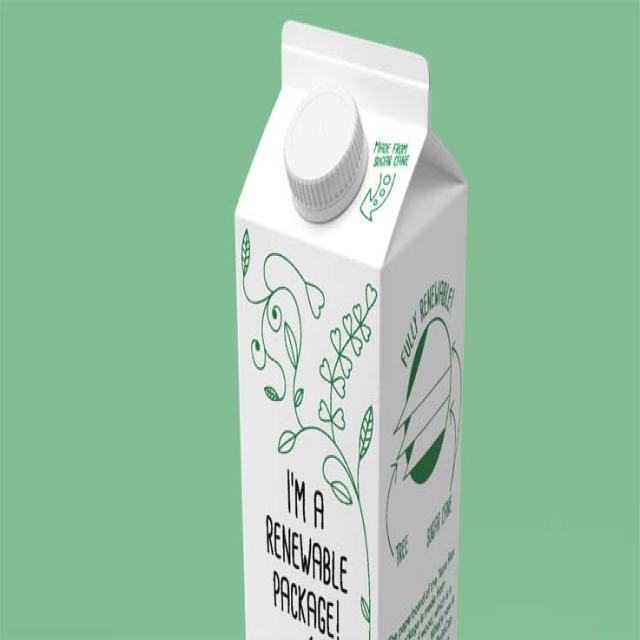Carton: (228, 5, 470, 640)
